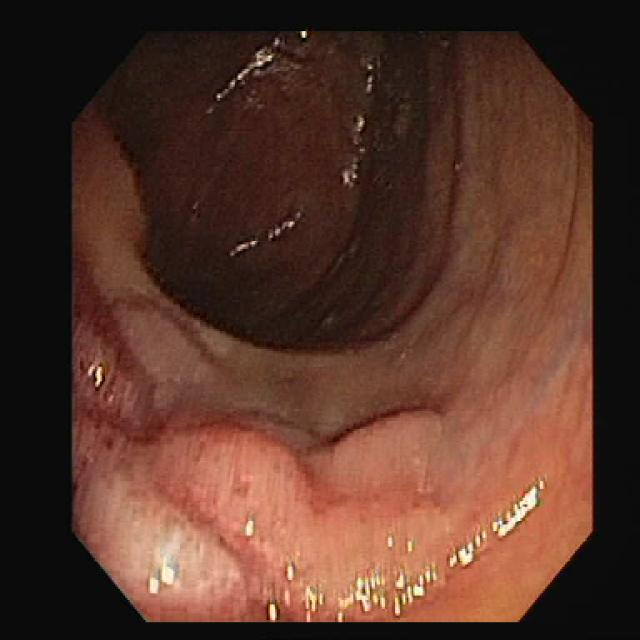tumor: (73, 280, 488, 589)
